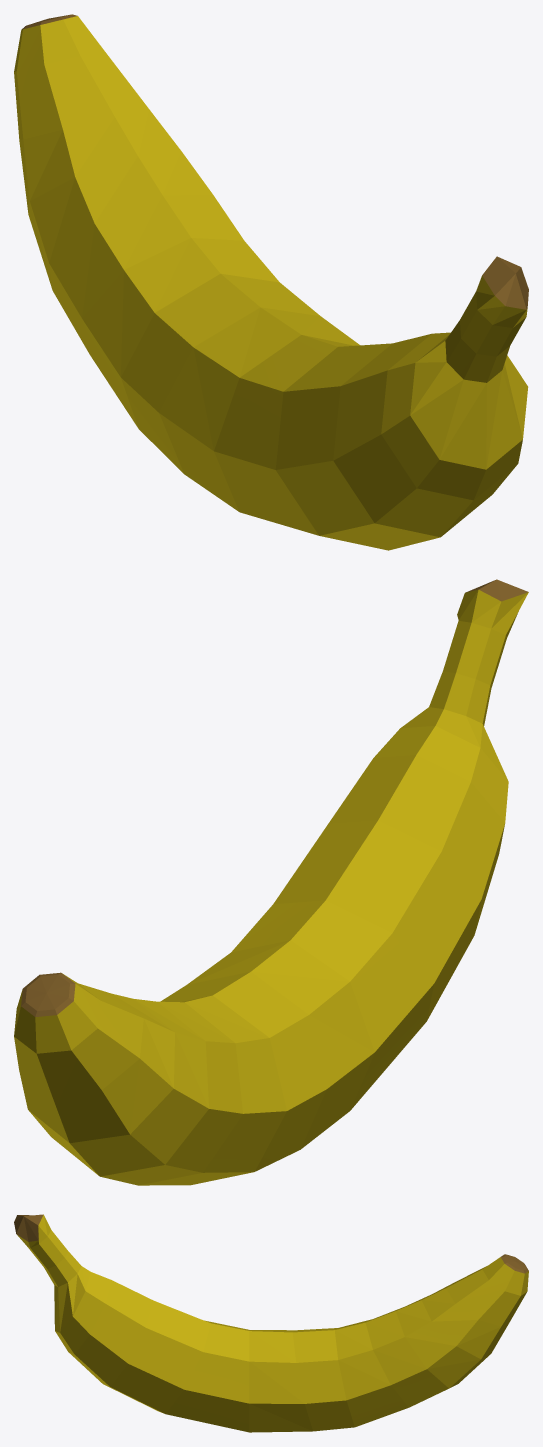
File: Banana.obj
3 renders of one model, top to bottom at view 1: azimuth 30°, elevation 25°; view 2: azimuth 150°, elevation 25°; view 3: azimuth 270°, elevation 25°, orthographic. The views are drawn at different scales.
Parts seen in each view (by area): view 1: Cylinder_Mesh, Cylinder_1_Mesh.002; view 2: Cylinder_Mesh, Cylinder_2_Mesh.001; view 3: Cylinder_Mesh, Cylinder_1_Mesh.002, Cylinder_2_Mesh.001.
Part boxes in pixels (x1,y1,x2,y2): Cylinder_Mesh: (14,16,528,550); Cylinder_1_Mesh.002: (482,256,528,309); Cylinder_Mesh: (14,589,528,1185); Cylinder_2_Mesh.001: (21,972,75,1016); Cylinder_Mesh: (17,1215,528,1432); Cylinder_1_Mesh.002: (14,1214,43,1241); Cylinder_2_Mesh.001: (501,1254,528,1273).
Size of the model in its own units: 1.48 by 3.22 by 6.94.
